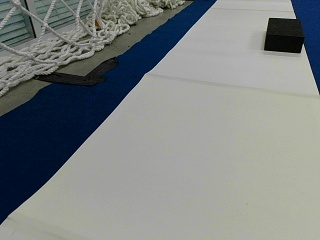block: (264, 17, 303, 52)
